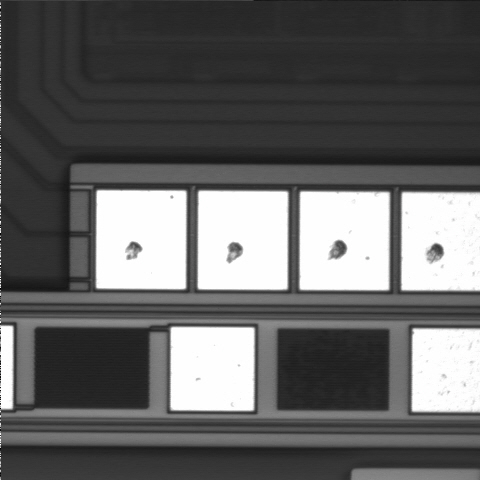pad: (96, 190, 186, 289), (198, 191, 288, 290), (300, 192, 389, 290), (171, 327, 254, 411)
